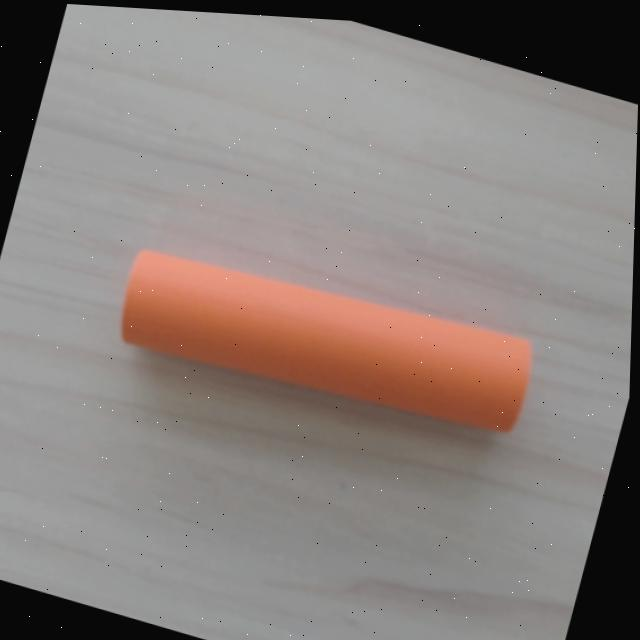Silinder-Jingga-10025: (113, 246, 536, 435)
